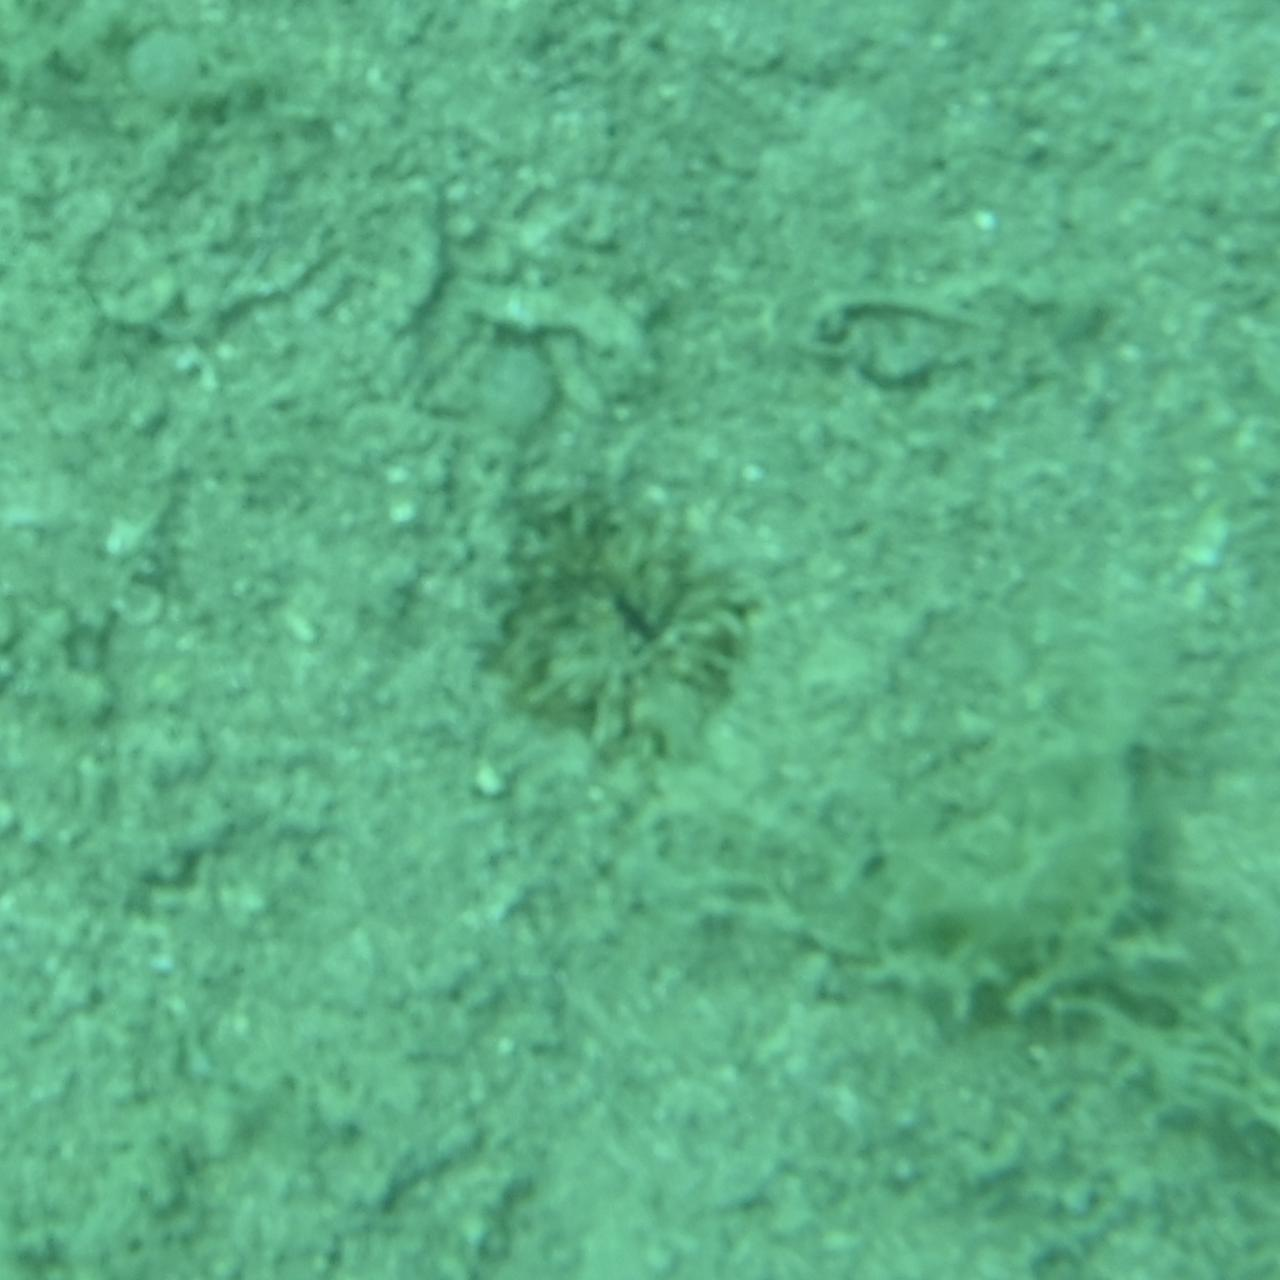Condylactis aurantiaca: (486, 488, 794, 792)
